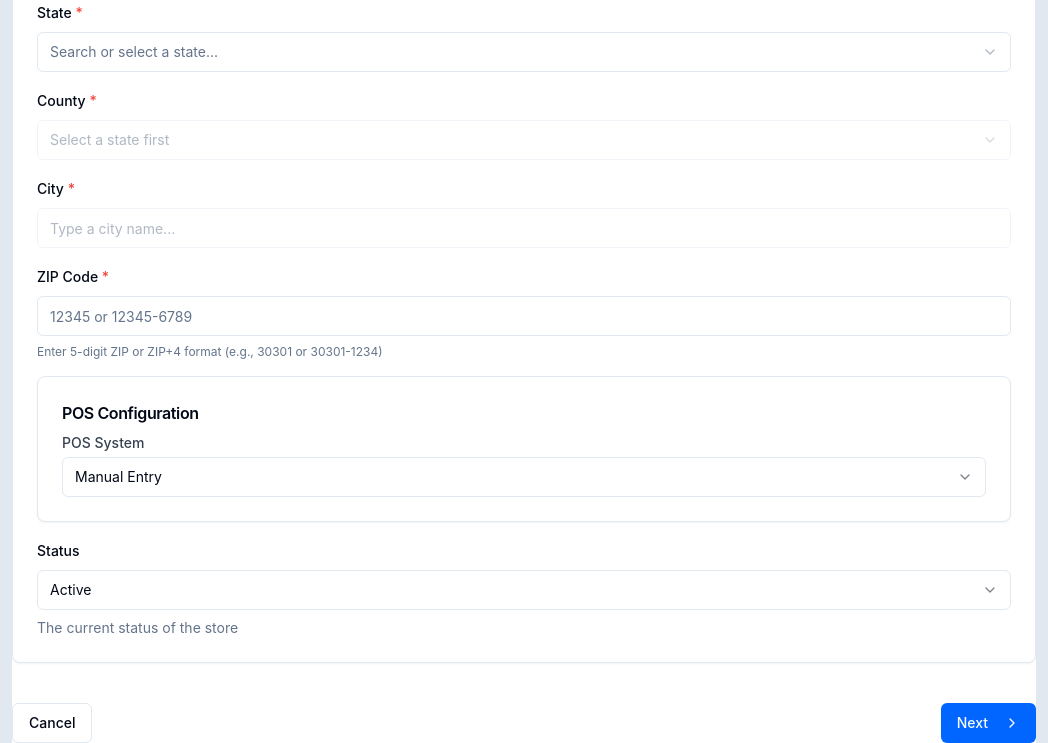
CreateStoreWizard Component › Step 1: Store Information › shows validation error for empty store name
(page scrolled)
// Try to proceed without store name
Click the button with test id "next-button".
click(988, 723)  # box [941, 703, 1036, 742]
(page scrolled)
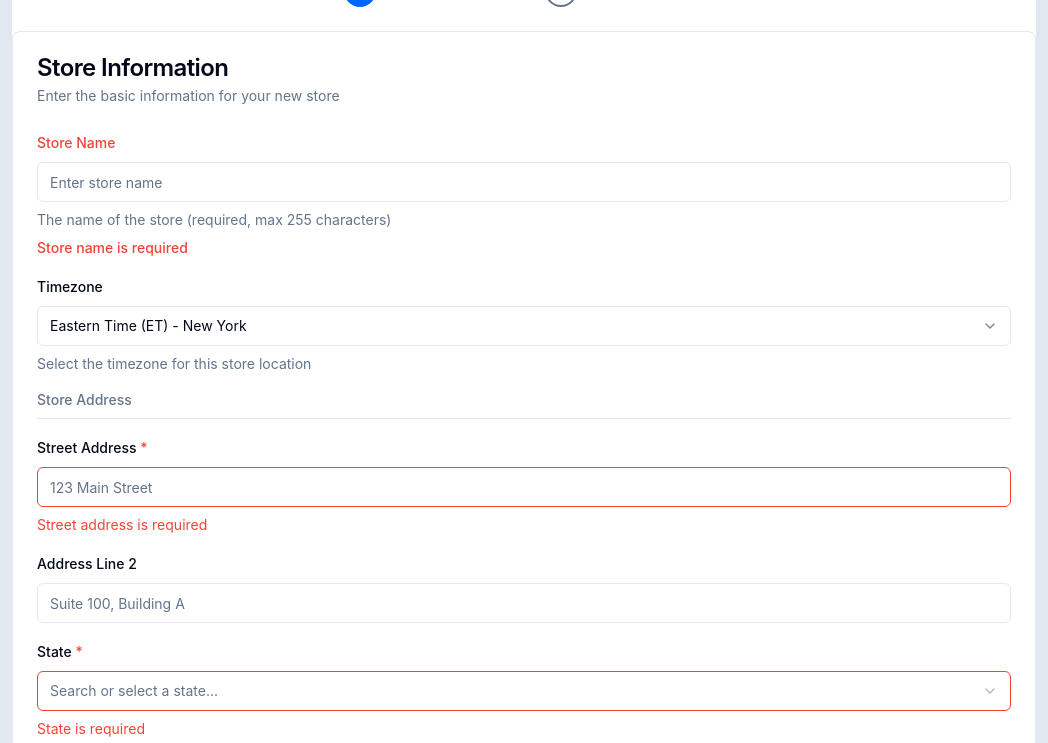
expect the text "Store name is required" is shown: met, box [37, 239, 188, 256]
